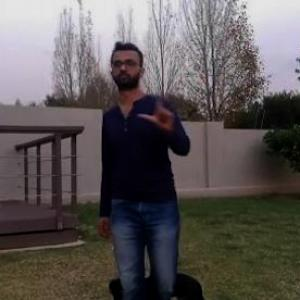land_hand: (136, 82, 179, 132)
